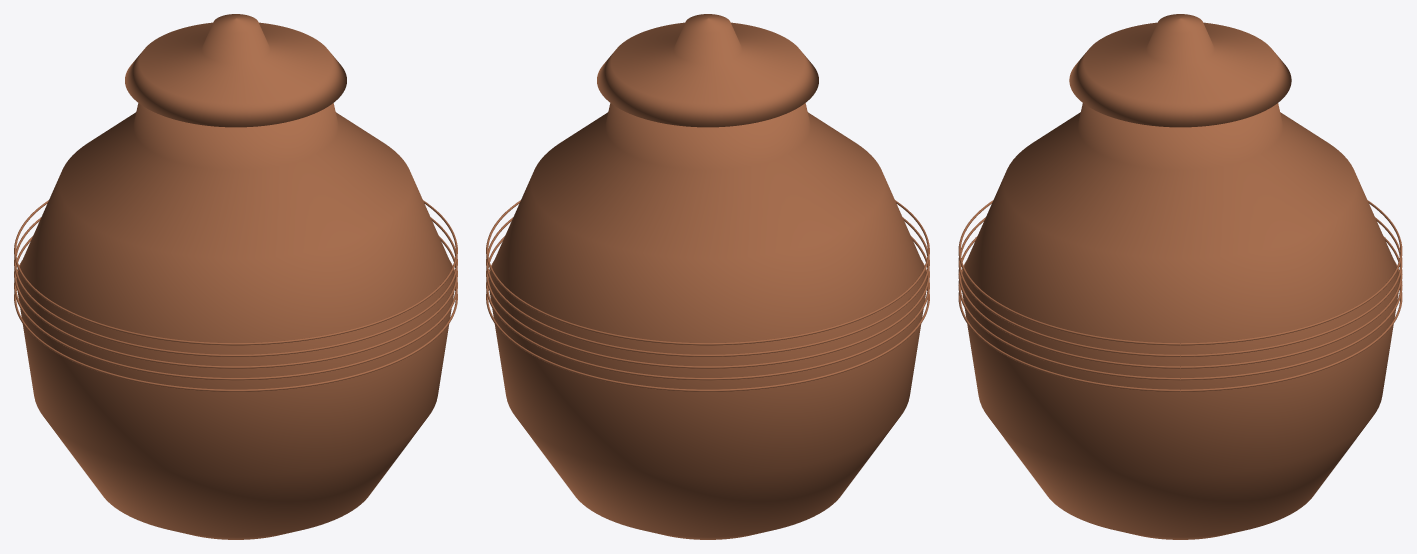
The model's file is earthenware-jar.fbx.
3 views of the same model, side by side, from view 1: azimuth 30°, elevation 25°; view 2: azimuth 150°, elevation 25°; view 3: azimuth 270°, elevation 25° (orthographic).
Visible parts, largest first — view 1: Earthenware jar, Lid, Wheel-thrown line.004, Wheel-thrown line.003, Wheel-thrown line.002, Wheel-thrown line.001, Wheel-thrown line; view 2: Earthenware jar, Lid, Wheel-thrown line.004, Wheel-thrown line.003, Wheel-thrown line.002, Wheel-thrown line.001, Wheel-thrown line; view 3: Earthenware jar, Lid, Wheel-thrown line.004, Wheel-thrown line.003, Wheel-thrown line.002, Wheel-thrown line.001, Wheel-thrown line.
Part boxes in pixels (bbox=[...]): Earthenware jar: bbox=[16, 103, 455, 539]; Lid: bbox=[125, 14, 346, 127]; Wheel-thrown line.004: bbox=[14, 200, 457, 345]; Wheel-thrown line.003: bbox=[14, 217, 457, 356]; Wheel-thrown line.002: bbox=[14, 236, 457, 368]; Wheel-thrown line.001: bbox=[14, 261, 457, 380]; Wheel-thrown line: bbox=[14, 288, 457, 391]; Earthenware jar: bbox=[488, 103, 927, 539]; Lid: bbox=[597, 14, 818, 127]; Wheel-thrown line.004: bbox=[486, 200, 929, 345]; Wheel-thrown line.003: bbox=[486, 217, 929, 356]; Wheel-thrown line.002: bbox=[486, 236, 929, 368]; Wheel-thrown line.001: bbox=[486, 261, 929, 380]; Wheel-thrown line: bbox=[486, 288, 929, 391]; Earthenware jar: bbox=[961, 103, 1399, 539]; Lid: bbox=[1069, 14, 1291, 127]; Wheel-thrown line.004: bbox=[958, 200, 1402, 345]; Wheel-thrown line.003: bbox=[958, 217, 1402, 356]; Wheel-thrown line.002: bbox=[958, 236, 1402, 368]; Wheel-thrown line.001: bbox=[958, 260, 1402, 380]; Wheel-thrown line: bbox=[958, 289, 1402, 391].
Size of the model in its own units: 156 by 187 by 156.
